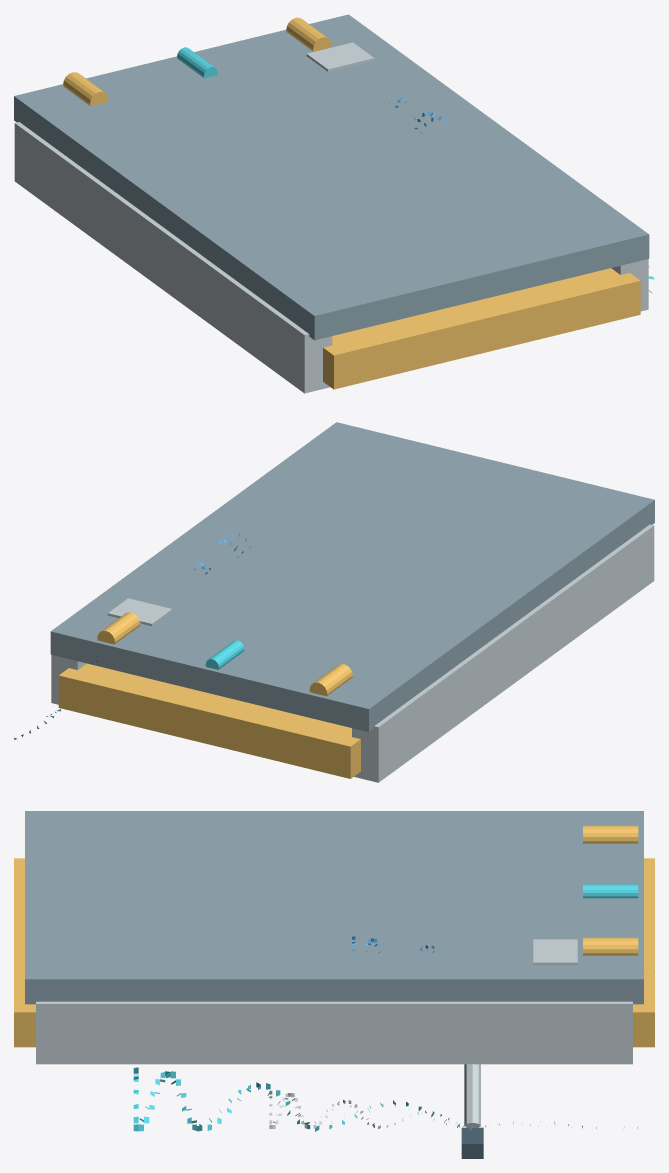
The model's file is THERMAL-DOSE-COUPON-holder.glb.
3 views of the same model, one above another, from view 1: azimuth 30°, elevation 25°; view 2: azimuth 150°, elevation 25°; view 3: azimuth 270°, elevation 25° (orthographic). The views are drawn at different scales.
Visible parts, largest first — view 1: frame, metal, amber, gas; view 2: frame, metal, amber, gas; view 3: frame, metal, amber, gas, dark.
Boxes of the visible parts, x1=… form: frame: x1=14, y1=14, x2=649, y2=340; metal: x1=14, y1=42, x2=648, y2=393; amber: x1=63, y1=17, x2=640, y2=389; gas: x1=177, y1=47, x2=654, y2=293; frame: x1=50, y1=422, x2=654, y2=732; metal: x1=46, y1=524, x2=654, y2=782; amber: x1=58, y1=612, x2=360, y2=778; gas: x1=14, y1=640, x2=244, y2=739; frame: x1=25, y1=811, x2=643, y2=1004; metal: x1=36, y1=939, x2=632, y2=1129; amber: x1=14, y1=825, x2=654, y2=1047; gas: x1=133, y1=884, x2=638, y2=1131; dark: x1=461, y1=1127, x2=483, y2=1158.
Bounding box in the file's own units: 85.67 × 33.35 × 116.
